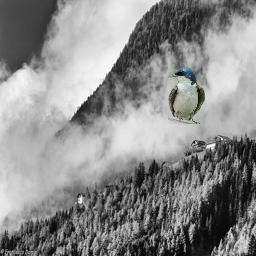Swallow: (168, 67, 205, 124)
